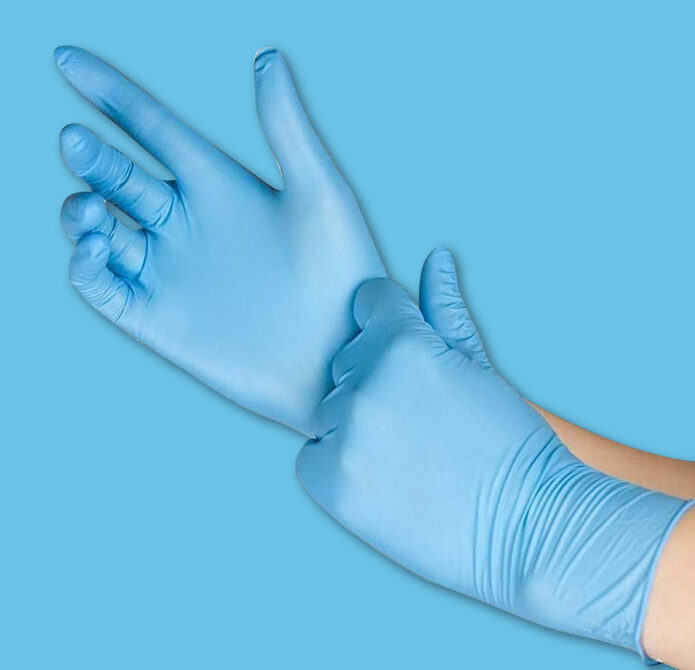glove: (48, 36, 415, 462), (287, 240, 586, 648)
